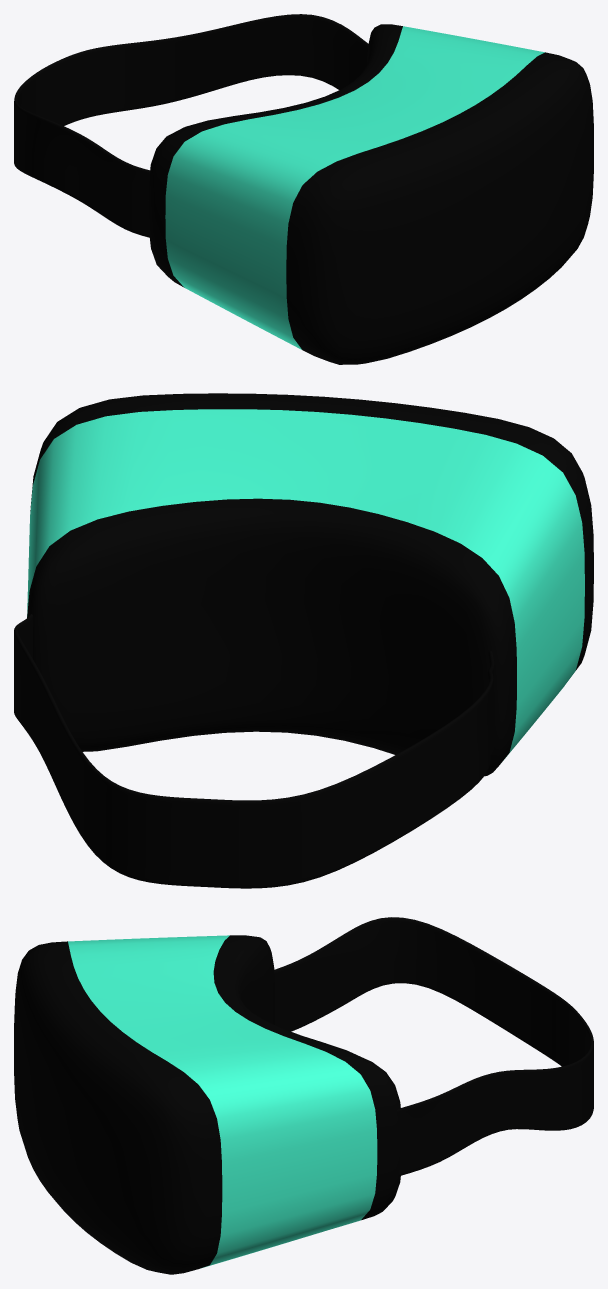
3 views of the same model, one above another, from view 1: azimuth 30°, elevation 25°; view 2: azimuth 150°, elevation 25°; view 3: azimuth 270°, elevation 25° (orthographic). The views are drawn at different scales.
Visible parts, largest first — view 1: VR._Unidas; view 2: VR._Unidas; view 3: VR._Unidas.
Boxes of the visible parts, <box> form: VR._Unidas: <box>14,14,593,364</box>; VR._Unidas: <box>14,393,593,888</box>; VR._Unidas: <box>14,917,593,1274</box>.
Bounding box in the file's own units: 0.1955 × 0.0831 × 0.218.
